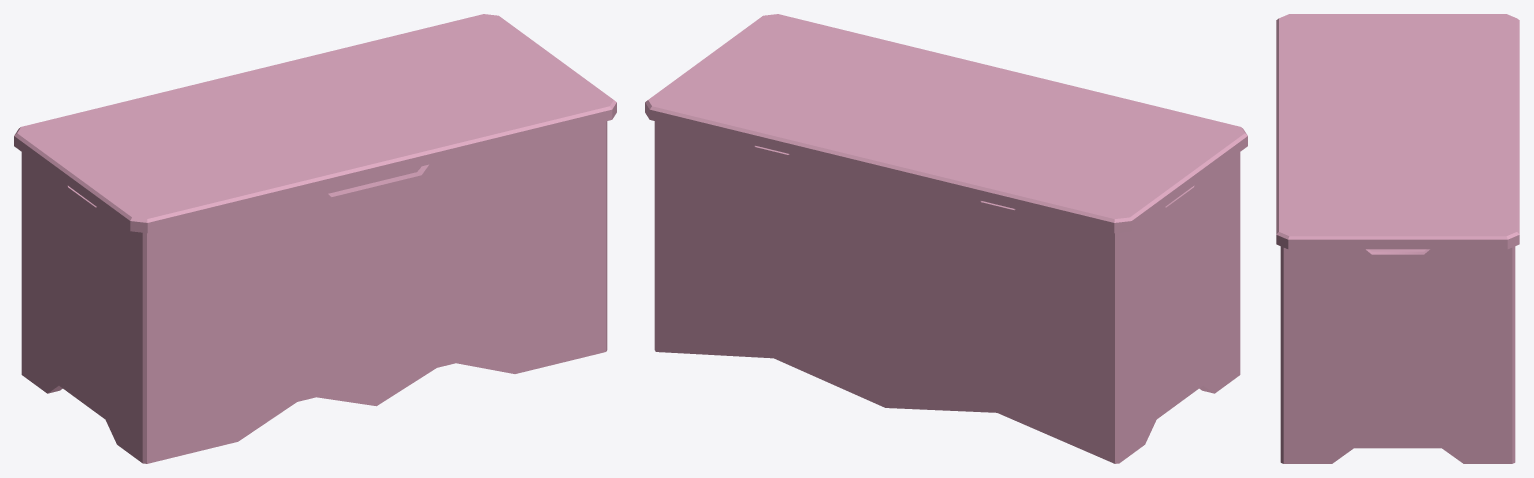
The model's file is SM_Room_Chest.fbx.
3 renders of one model, left to right at view 1: azimuth 30°, elevation 25°; view 2: azimuth 150°, elevation 25°; view 3: azimuth 270°, elevation 25°, orthographic. The views are drawn at different scales.
Visible parts, largest first — view 1: Chest, Lid; view 2: Chest, Lid; view 3: Lid, Chest.
Part boxes in pixels (x1,y1,x2,y2): Chest: [21, 121, 607, 463]; Lid: [14, 14, 616, 233]; Chest: [654, 121, 1240, 463]; Lid: [645, 14, 1247, 233]; Lid: [1276, 14, 1519, 249]; Chest: [1280, 246, 1515, 463].
Bounding box in the file's own units: 1.38 × 0.6635 × 0.6307.
